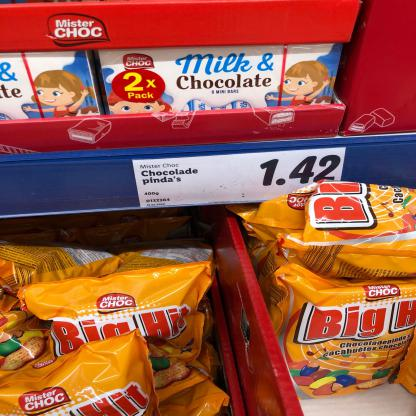prtg: (133, 149, 346, 209)
